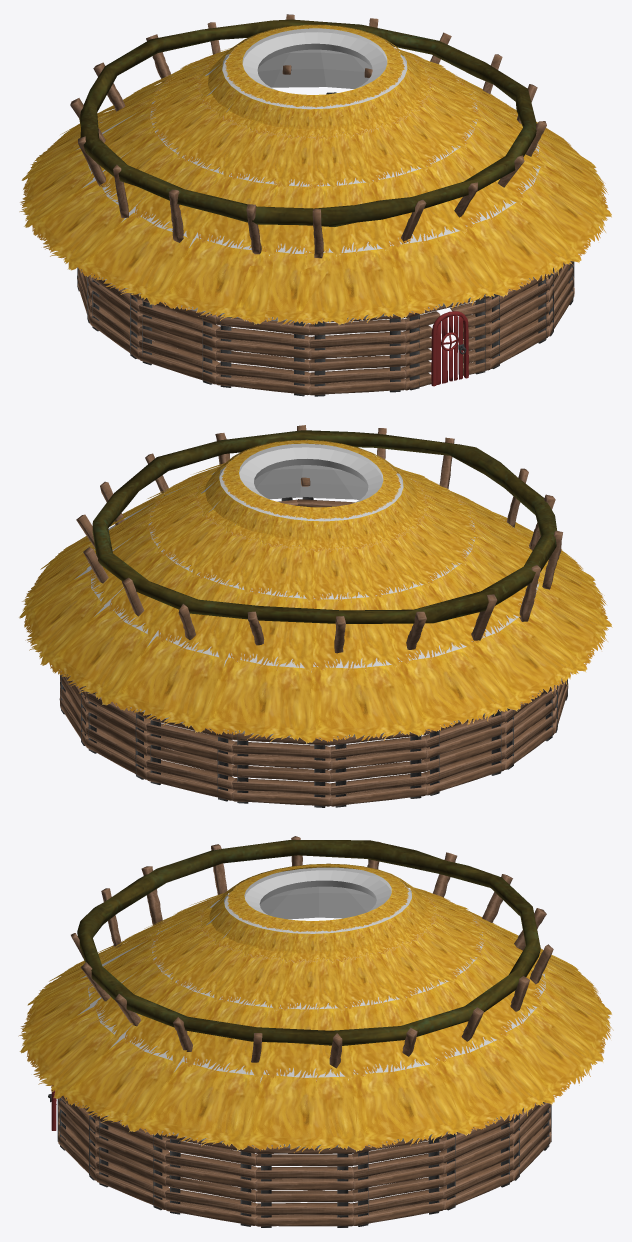
Rendered from SM_hut_04.fbx.
3 renders of one model, top to bottom at view 1: azimuth 30°, elevation 25°; view 2: azimuth 150°, elevation 25°; view 3: azimuth 270°, elevation 25°, orthographic. The views are drawn at different scales.
Visible parts, largest first — view 1: hut_04; view 2: hut_04; view 3: hut_04.
Part boxes in pixels (x1,y1,x2,y2): hut_04: (19,14,611,396); hut_04: (19,425,612,807); hut_04: (18,836,613,1227).
Size of the model in its own units: 1941 by 829 by 1960.
